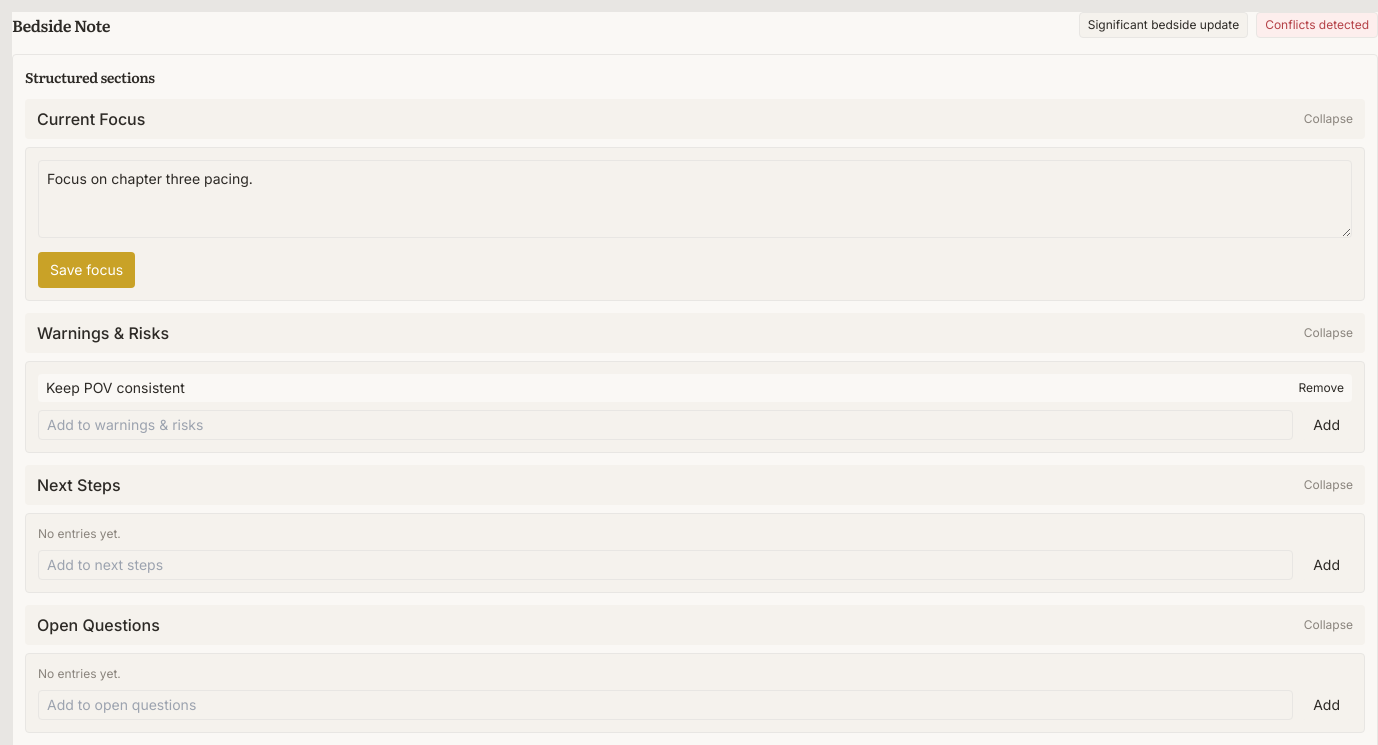
Test: BedsideNotePanel › shows error when saving focus fails
The image size is (1378, 745).
Click the button "Save focus": {"x": 87, "y": 270} [38,252,135,288]
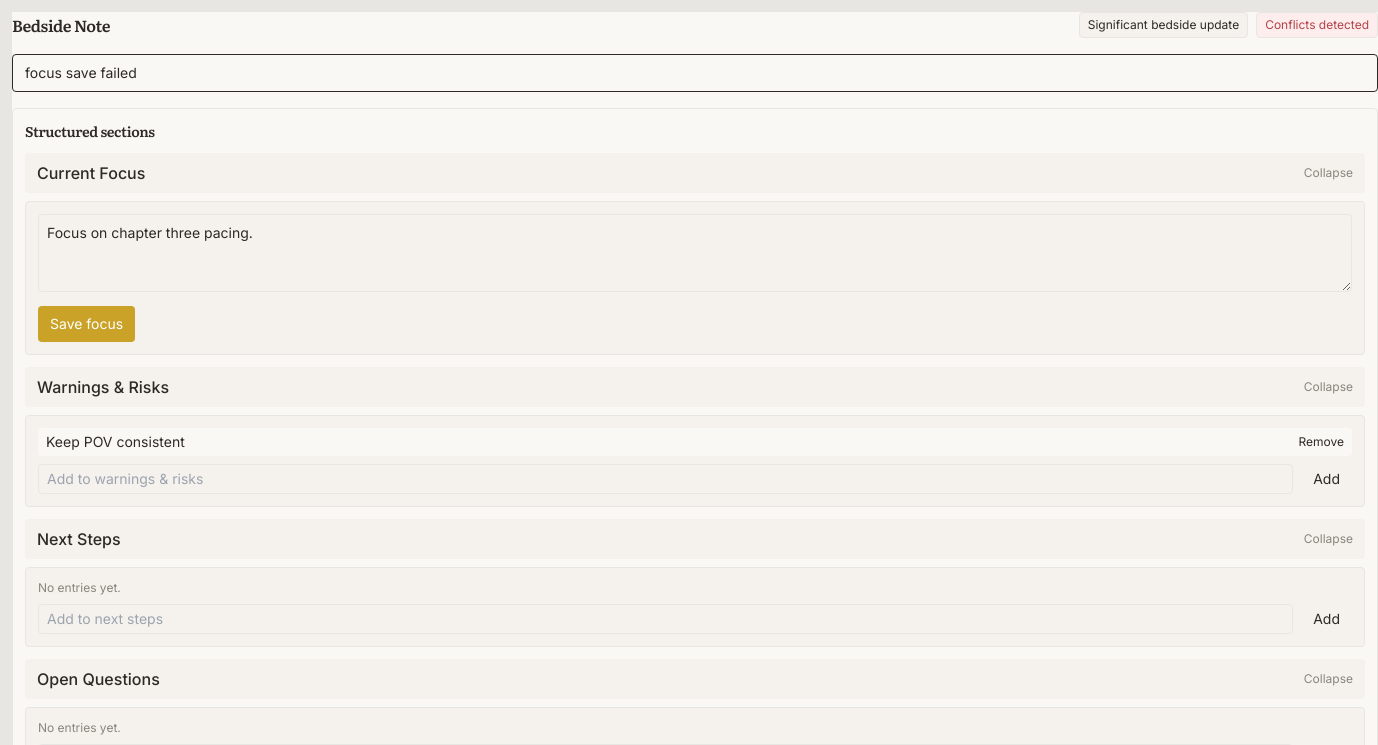
Check: the text "focus save failed" is shown, box [12,54,1377,92]
